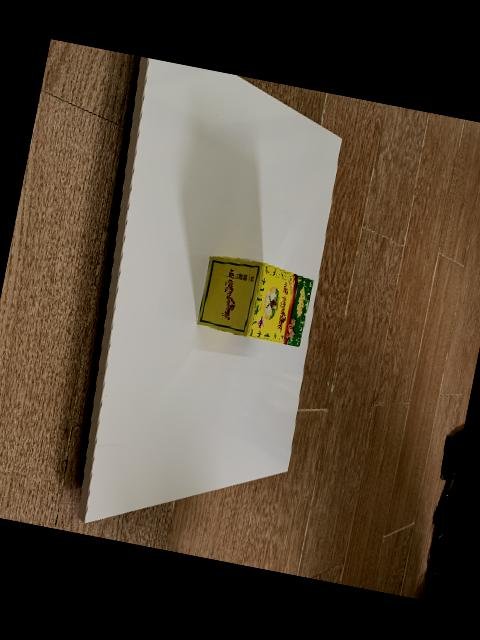luong_kho: (193, 254, 313, 346)
